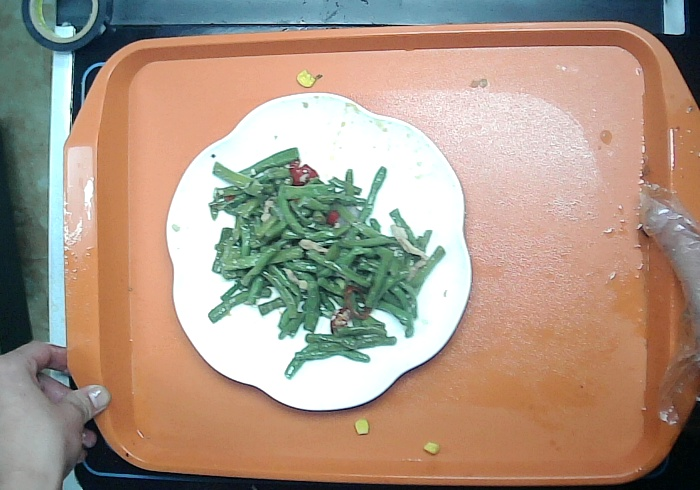HZYJPL-Bai_Se_Hua_Duo_Wan: (163, 89, 473, 414)
